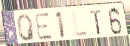1: (55, 10, 67, 40)
6: (107, 6, 123, 36)
E: (34, 12, 54, 42)
L: (71, 10, 89, 38)
Q: (16, 13, 37, 43)
T: (89, 9, 103, 36)
